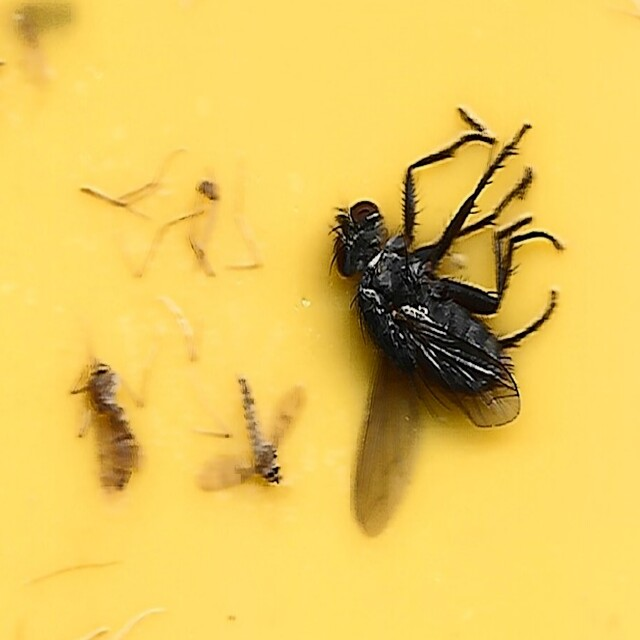Brachycera: (333, 104, 569, 536)
Nematocera: (196, 379, 304, 496), (71, 356, 149, 511)
